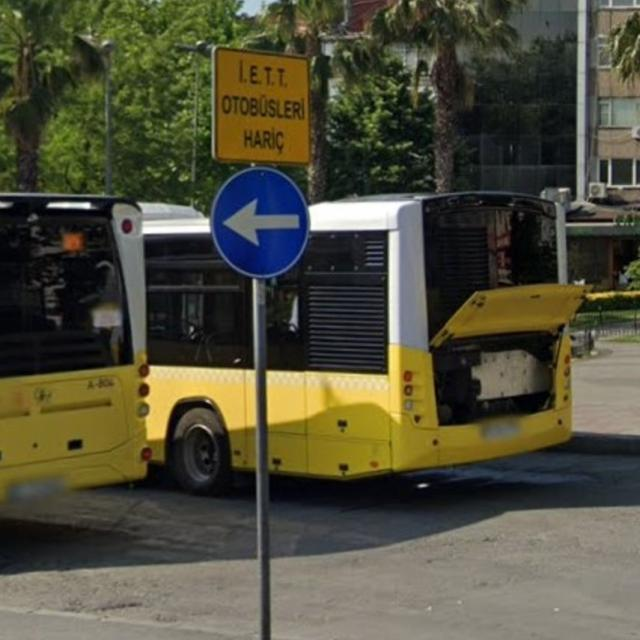Turn Left: (214, 167, 310, 284)
